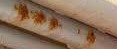Corrosion: (13, 1, 31, 25), (32, 9, 47, 26), (85, 29, 96, 49), (49, 16, 59, 32)
